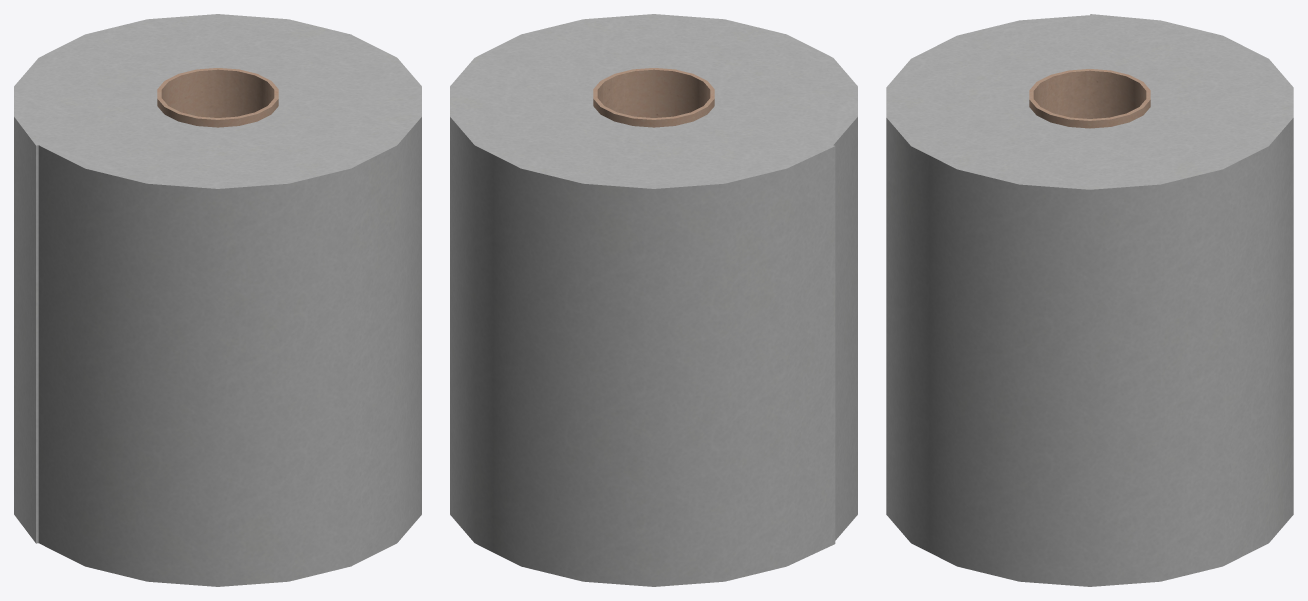
Rendered from Toliet Roll.fbx.
3 views of the same model, side by side, from view 1: azimuth 30°, elevation 25°; view 2: azimuth 150°, elevation 25°; view 3: azimuth 270°, elevation 25° (orthographic).
Visible parts, largest first — view 1: Toliet Roll; view 2: Toliet Roll; view 3: Toliet Roll.
Boxes of the visible parts, <box> form: Toliet Roll: <box>14,14,421,586</box>; Toliet Roll: <box>450,14,857,586</box>; Toliet Roll: <box>886,14,1293,586</box>.
Bounding box in the file's own units: 29.41 × 32.16 × 28.78.
1 material, 1 textured.
